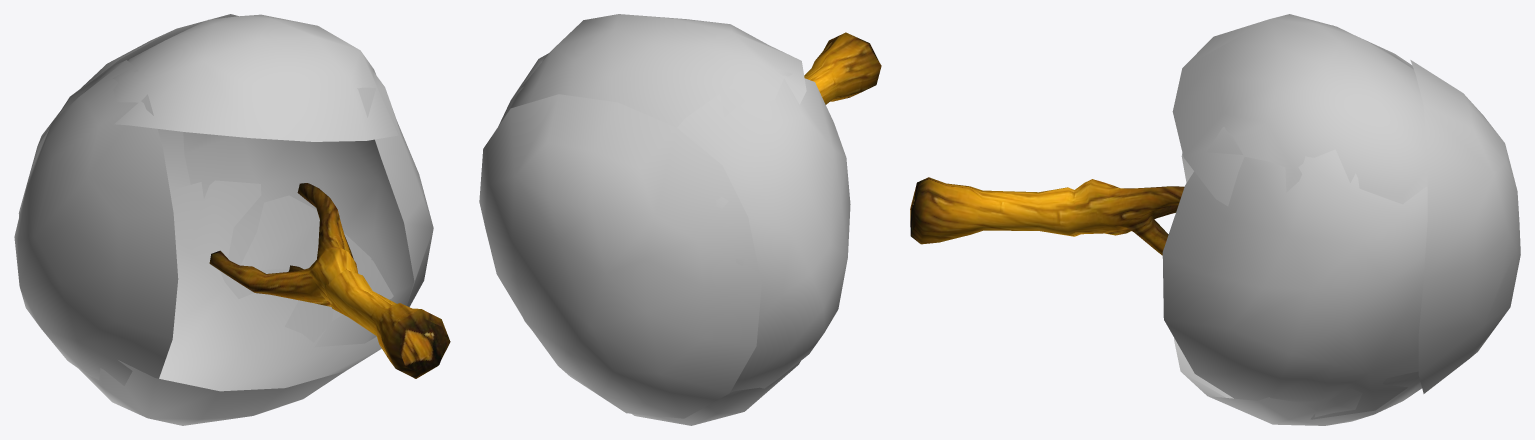
Rendered from ARVORE01.fbx.
The picture shows the model from 3 angles, left to right: view 1: azimuth 30°, elevation 25°; view 2: azimuth 150°, elevation 25°; view 3: azimuth 270°, elevation 25°; orthographic projection. The views are drawn at different scales.
Parts seen in each view (by area): view 1: tree01; view 2: tree01; view 3: tree01.
Boxes of the visible parts, x1,y1,x2,y2 form: tree01: [14, 14, 450, 425]; tree01: [479, 14, 881, 425]; tree01: [910, 14, 1520, 425].
Bounding box in the file's own units: 325 × 331 × 477.
